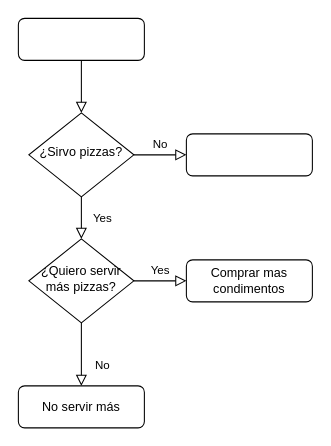
The diagram is 331 pixels wide and 446 high, and some of its shapes have lost their labels. The shapes that lost their labels are listed below. From the top down, each one's centre as x and y in pixels, then its label:
At point (80, 38): "Servir gran variedad de pizzas".
At point (248, 154): "Servirlas".
